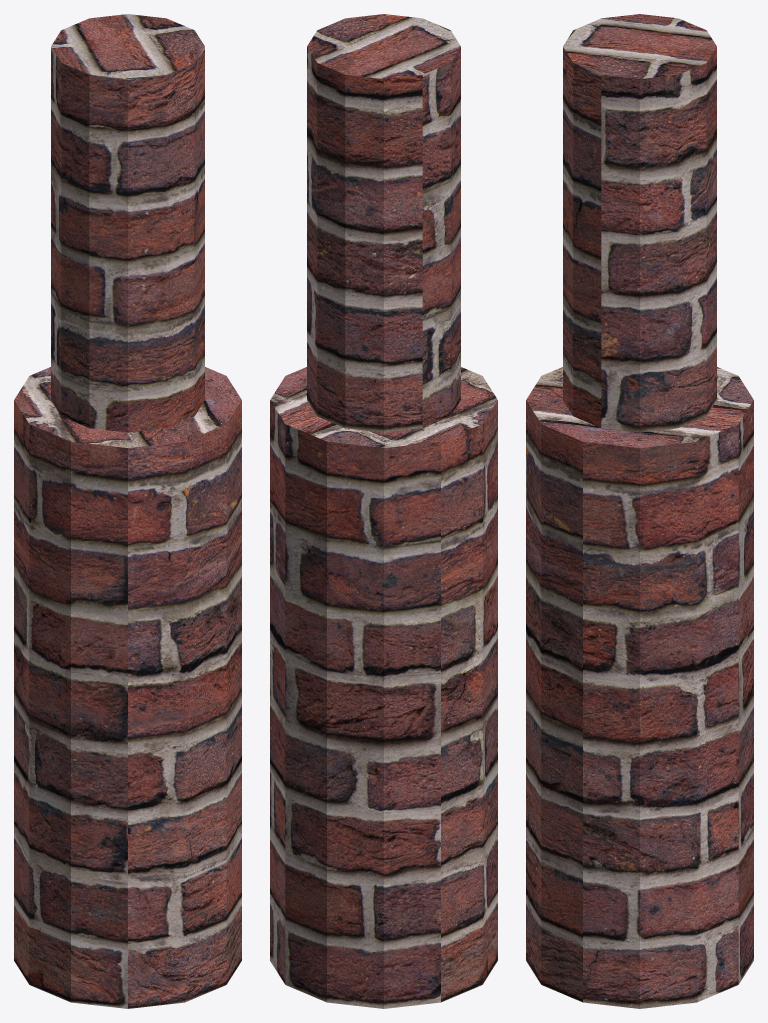
File: chimney.fbx
3 renders of one model, left to right at view 1: azimuth 30°, elevation 25°; view 2: azimuth 150°, elevation 25°; view 3: azimuth 270°, elevation 25°, orthographic.
Visible parts, largest first — view 1: Cylinder; view 2: Cylinder; view 3: Cylinder.
Boxes of the visible parts, x1=… form: Cylinder: x1=14, y1=14, x2=241, y2=1008; Cylinder: x1=270, y1=14, x2=497, y2=1008; Cylinder: x1=526, y1=14, x2=753, y2=1008.
Bounding box in the file's own units: 200 × 886 × 200.
